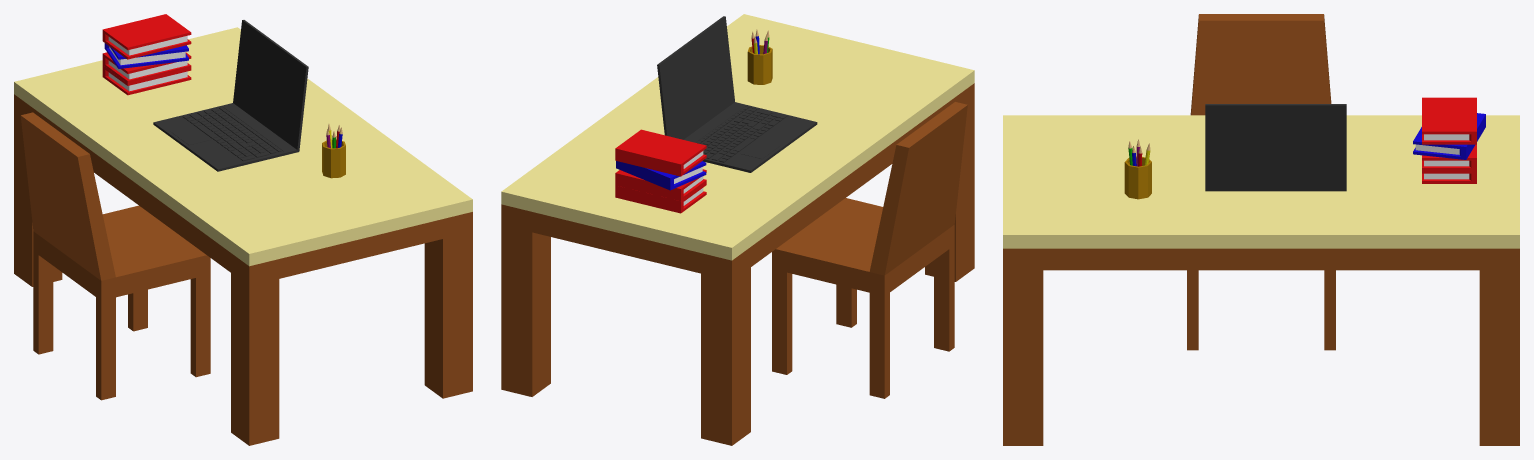
Rendered from uploads_files_2923521_poly+home.fbx.
3 renders of one model, left to right at view 1: azimuth 30°, elevation 25°; view 2: azimuth 150°, elevation 25°; view 3: azimuth 270°, elevation 25°, orthographic. The views are drawn at different scales.
Visible parts, largest first — view 1: Cube.010, Cube.011, Plane.001, Plane, Cube.015, Cube.012, Cube.014, Cube.013, Circle; view 2: Cube.010, Cube.011, Plane.001, Plane, Cube.015, Cube.012, Cube.014, Cube.013, Circle; view 3: Cube.010, Cube.011, Plane.001, Cube.015, Cube.013, Circle, Cube.012, Cube.014.
Boxes of the visible parts, x1=… form: Cube.010: x1=14, y1=27, x2=472, y2=445; Cube.011: x1=20, y1=112, x2=210, y2=400; Plane.001: x1=233, y1=20, x2=308, y2=152; Plane: x1=153, y1=103, x2=297, y2=171; Cube.015: x1=102, y1=14, x2=191, y2=59; Cube.012: x1=102, y1=52, x2=191, y2=83; Cube.014: x1=102, y1=65, x2=191, y2=95; Cube.013: x1=104, y1=43, x2=188, y2=68; Circle: x1=322, y1=139, x2=345, y2=178; Cube.010: x1=501, y1=14, x2=974, y2=445; Cube.011: x1=772, y1=102, x2=967, y2=398; Plane.001: x1=657, y1=16, x2=734, y2=139; Plane: x1=684, y1=102, x2=817, y2=172; Cube.015: x1=615, y1=129, x2=706, y2=176; Cube.012: x1=615, y1=169, x2=706, y2=201; Cube.014: x1=615, y1=183, x2=706, y2=213; Cube.013: x1=616, y1=161, x2=706, y2=190; Circle: x1=747, y1=45, x2=772, y2=84; Cube.010: x1=1003, y1=115, x2=1519, y2=445; Cube.011: x1=1187, y1=14, x2=1335, y2=350; Plane.001: x1=1205, y1=104, x2=1346, y2=191; Cube.015: x1=1422, y1=97, x2=1476, y2=144; Cube.013: x1=1413, y1=113, x2=1485, y2=159; Circle: x1=1124, y1=156, x2=1151, y2=199; Cube.012: x1=1422, y1=144, x2=1476, y2=170; Cube.014: x1=1422, y1=171, x2=1476, y2=183.
Size of the model in its own units: 92.82 by 79.7 by 124.
